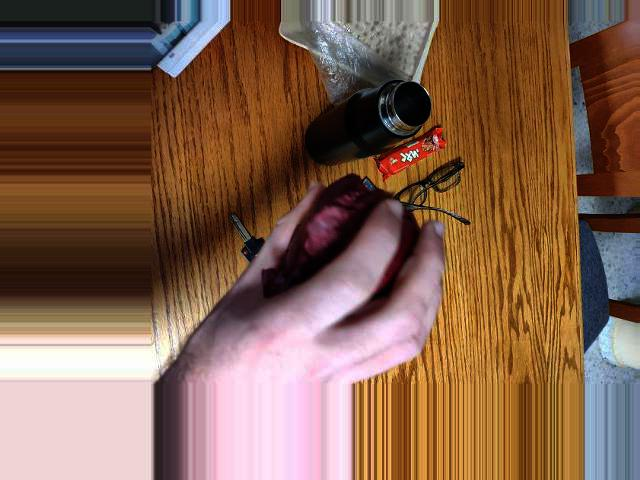onion: (300, 185, 424, 297)
